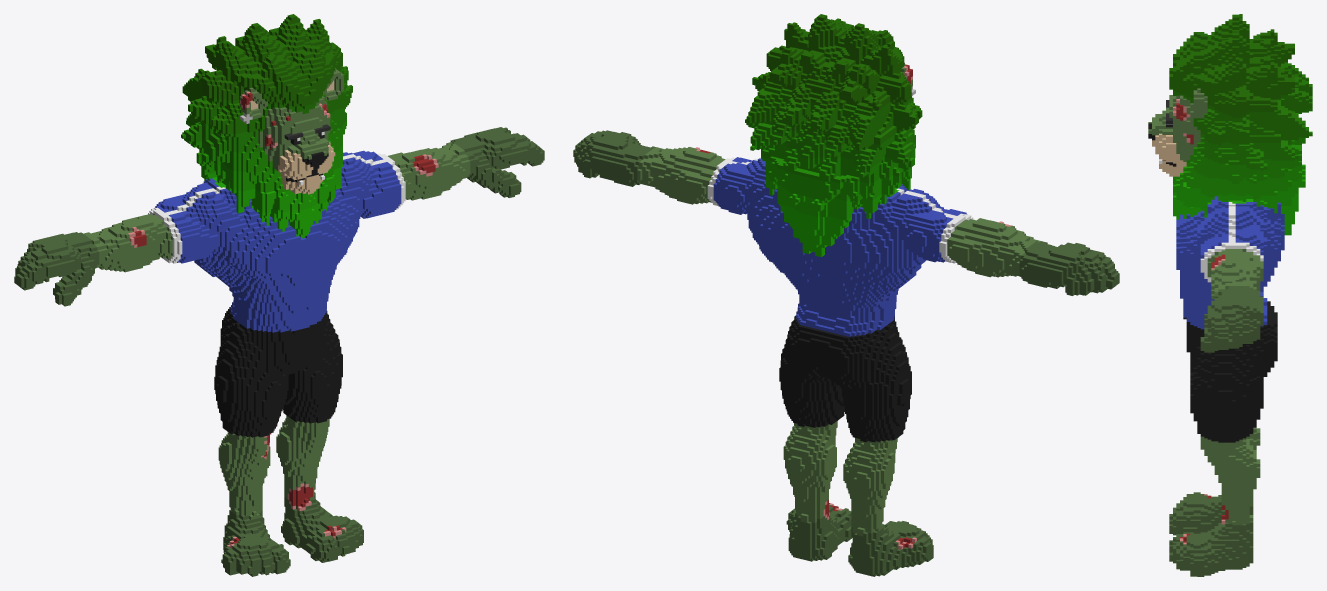
Rendered from 345-HMRo_X3S.glb.
3 renders of one model, left to right at view 1: azimuth 30°, elevation 25°; view 2: azimuth 150°, elevation 25°; view 3: azimuth 270°, elevation 25°, orthographic. The views are drawn at different scales.
Visible parts, largest first — view 1: standard; view 2: standard; view 3: standard.
Boxes of the visible parts, box(x1,y1,x2,y2) form: standard: box(14, 14, 544, 576); standard: box(573, 14, 1119, 576); standard: box(1148, 14, 1312, 576).
Size of the model in its own units: 17.2 by 16.5 by 4.7.
Materials: 6 (6 with a texture image).
